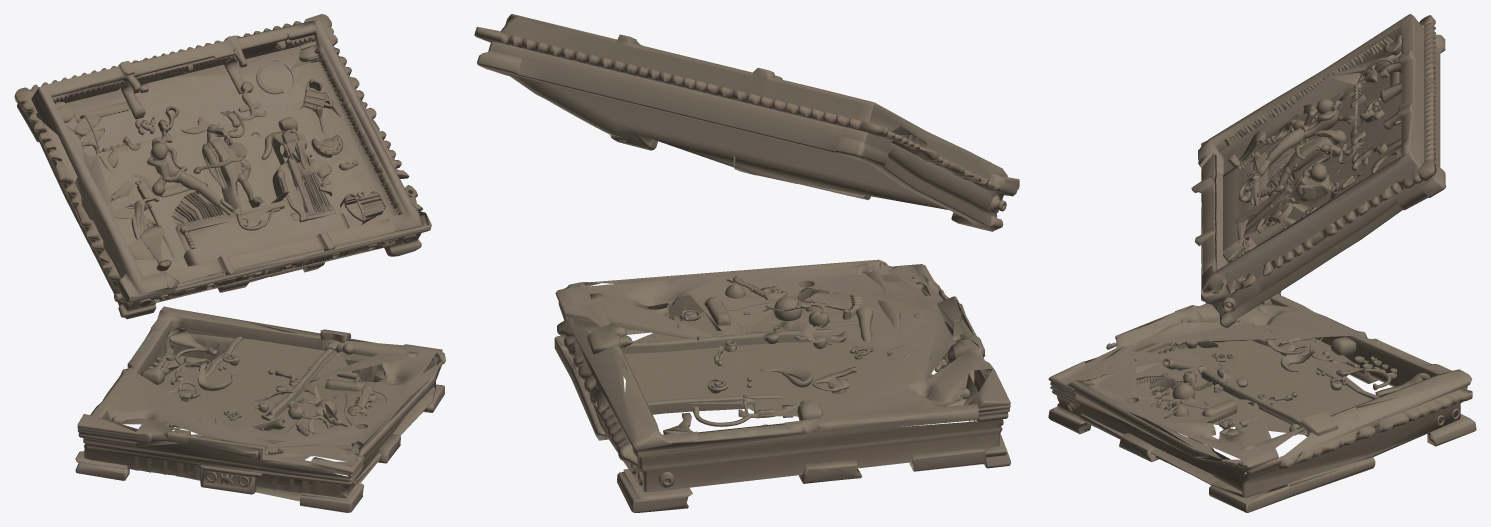
Rendered from tripo_convert_88282748-5d00-44a2-84db-ddd8ccc9e9cd.fbx.
The picture shows the model from 3 angles, left to right: view 1: azimuth 30°, elevation 25°; view 2: azimuth 150°, elevation 25°; view 3: azimuth 270°, elevation 25°; orthographic projection. The views are drawn at different scales.
Visible parts, largest first — view 1: tripo_node_88282748; view 2: tripo_node_88282748; view 3: tripo_node_88282748.
Part boxes in pixels (x1,y1,x2,y2): tripo_node_88282748: (14,14,445,512); tripo_node_88282748: (474,14,1019,512); tripo_node_88282748: (1048,14,1476,512).
Size of the model in its own units: 99.56 by 99.95 by 89.31.
